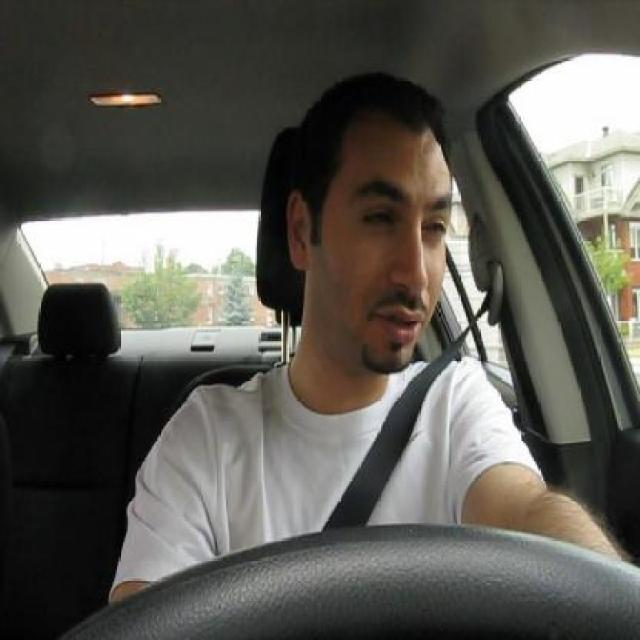drowsy: (362, 198, 393, 236), (420, 210, 448, 248)
